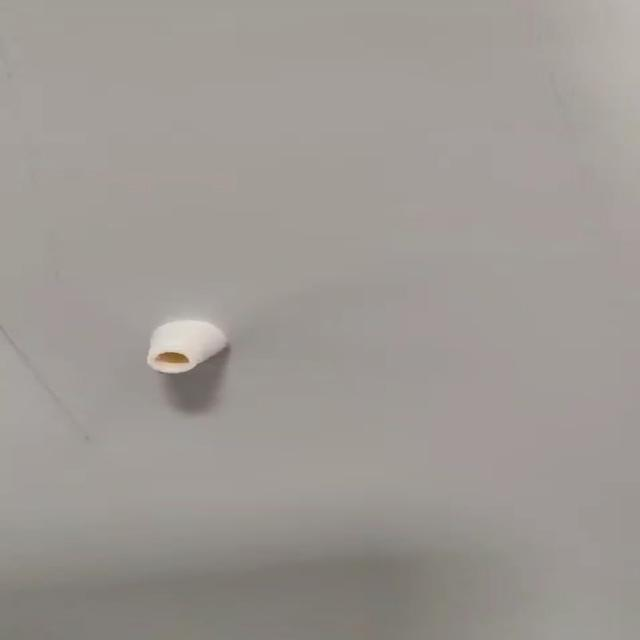Z1x1x1: (143, 318, 231, 372)
